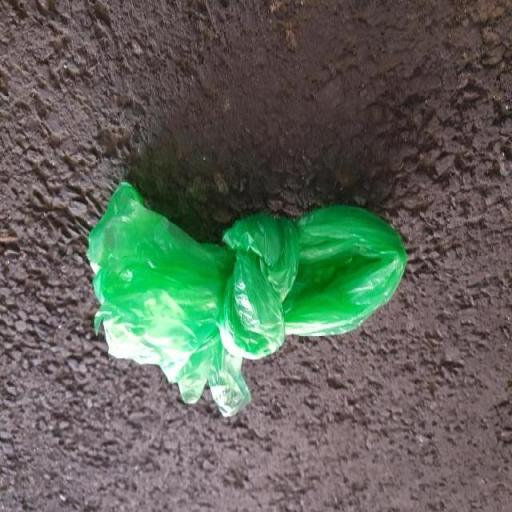plastic-bag: (84, 174, 407, 422)
